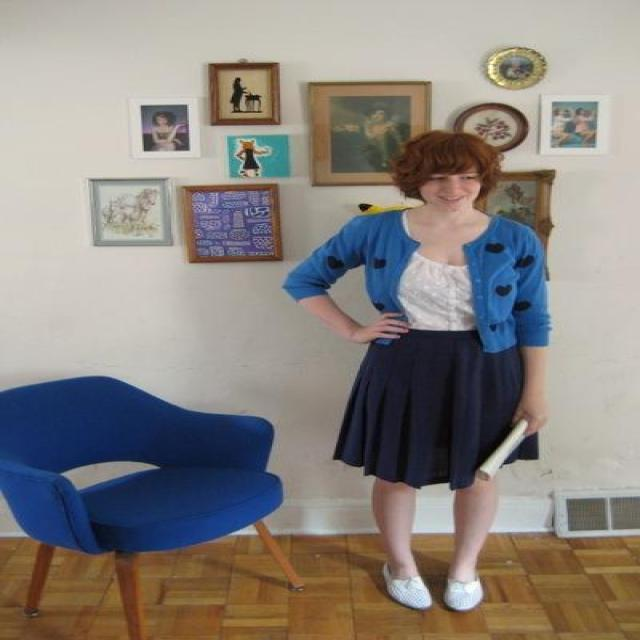jacket: (288, 214, 549, 352)
shirt: (397, 252, 472, 330)
shoe: (382, 556, 482, 614)
skirt: (333, 327, 531, 493)
